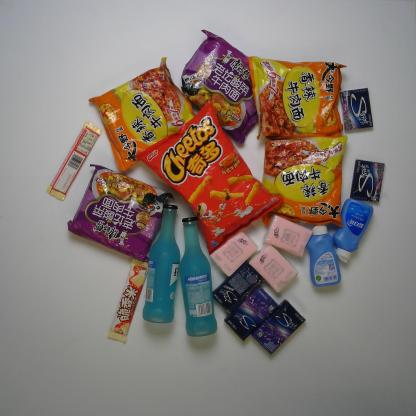Alcohol: (139, 202, 181, 327), (178, 214, 220, 339)
Chocolate: (44, 118, 104, 203), (104, 256, 151, 345)
Gum: (221, 283, 280, 342), (250, 297, 307, 356), (211, 260, 266, 316), (346, 156, 387, 206), (336, 86, 375, 133)
Instant Noodles: (86, 56, 198, 172), (63, 162, 176, 265), (178, 26, 261, 148), (245, 52, 348, 140), (258, 131, 349, 228)
Personal Hygiene: (331, 196, 377, 266), (304, 220, 343, 288)
Puffed Food: (133, 98, 285, 257)
Tissue: (246, 243, 302, 295), (208, 227, 260, 279), (261, 212, 315, 260)
